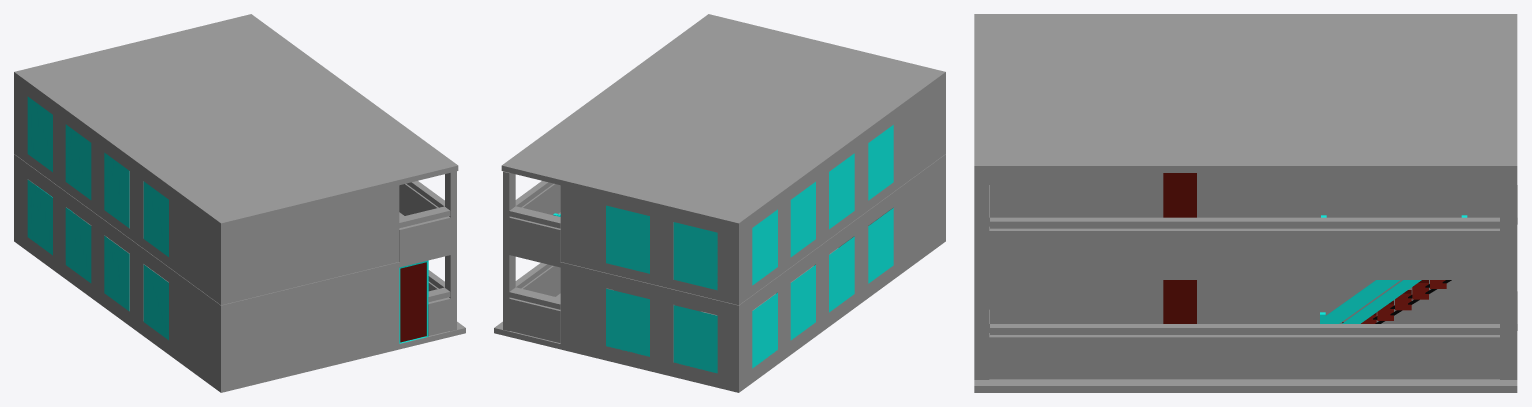
The model's file is PisoDuplex.obj.
3 views of the same model, side by side, from view 1: azimuth 30°, elevation 25°; view 2: azimuth 150°, elevation 25°; view 3: azimuth 270°, elevation 25° (orthographic). The views are drawn at different scales.
Visible parts, largest first — view 1: Plane.004_Plane.003_Plane.004_Plane.009, Plane.004_Plane.001_Plane.004_Plane.002, Plane.004_Plane.007, Plane.004_Plane.012_Plane.004_Plane.022, Plane.004_Plane.008_Plane.004_Plane.012, Plane.004_Plane.002_Plane.004_Plane.005, Plane.004_Plane.000_Plane.004_Plane.001, Cube.001_Cube.002, Plane.004_Plane.006_Plane.004_Plane.011, Plane.004_Plane.005_Plane.004_Plane.013, Cube_Cube.001; view 2: Plane.004_Plane.003_Plane.004_Plane.009, Plane.004_Plane.012_Plane.004_Plane.022, Plane.004_Plane.001_Plane.004_Plane.002, Plane.004_Plane.007, Plane.004_Plane.008_Plane.004_Plane.012, Plane.004_Plane.005_Plane.004_Plane.013, Plane.004_Plane.002_Plane.004_Plane.005, Plane.004_Plane.000_Plane.004_Plane.001, Plane.004_Plane.006_Plane.004_Plane.011; view 3: Plane.004_Plane.003_Plane.004_Plane.009, Plane.004_Plane.008_Plane.004_Plane.012, Plane.004_Plane.005_Plane.004_Plane.013, Plane.004_Plane.001_Plane.004_Plane.002, Plane.004_Plane.007, Plane.004_Plane.002_Plane.004_Plane.005, Plane.004_Plane.006_Plane.004_Plane.011, Plane.004_Plane.000_Plane.004_Plane.001, Plane.004_Plane.009_Plane.004_Plane.014, Plane, Plane.004_Plane.004_Plane.004_Plane.006.
Boxes of the visible parts, x1,y1,x2,y2 form: Plane.004_Plane.003_Plane.004_Plane.009: (14, 14, 458, 228); Plane.004_Plane.001_Plane.004_Plane.002: (14, 77, 399, 305); Plane.004_Plane.007: (14, 160, 399, 387); Plane.004_Plane.012_Plane.004_Plane.022: (27, 96, 168, 340); Plane.004_Plane.008_Plane.004_Plane.012: (399, 181, 450, 261); Plane.004_Plane.002_Plane.004_Plane.005: (14, 220, 465, 392); Plane.004_Plane.000_Plane.004_Plane.001: (14, 154, 456, 310); Cube.001_Cube.002: (400, 262, 426, 342); Plane.004_Plane.006_Plane.004_Plane.011: (445, 171, 456, 331); Plane.004_Plane.005_Plane.004_Plane.013: (428, 270, 450, 335); Cube_Cube.001: (399, 260, 428, 343); Plane.004_Plane.003_Plane.004_Plane.009: (501, 14, 945, 228); Plane.004_Plane.012_Plane.004_Plane.022: (606, 125, 893, 373); Plane.004_Plane.001_Plane.004_Plane.002: (560, 77, 945, 305); Plane.004_Plane.007: (560, 160, 945, 387); Plane.004_Plane.008_Plane.004_Plane.012: (509, 181, 560, 261); Plane.004_Plane.005_Plane.004_Plane.013: (509, 263, 560, 342); Plane.004_Plane.002_Plane.004_Plane.005: (494, 236, 945, 392); Plane.004_Plane.000_Plane.004_Plane.001: (503, 154, 945, 310); Plane.004_Plane.006_Plane.004_Plane.011: (503, 171, 515, 331); Plane.004_Plane.003_Plane.004_Plane.009: (974, 14, 1517, 172); Plane.004_Plane.008_Plane.004_Plane.012: (989, 185, 1517, 272); Plane.004_Plane.005_Plane.004_Plane.013: (989, 291, 1517, 379); Plane.004_Plane.001_Plane.004_Plane.002: (989, 173, 1499, 226); Plane.004_Plane.007: (989, 280, 1499, 332); Plane.004_Plane.002_Plane.004_Plane.005: (974, 379, 1517, 392); Plane.004_Plane.006_Plane.004_Plane.011: (974, 173, 1517, 379); Plane.004_Plane.000_Plane.004_Plane.001: (974, 273, 1517, 279); Plane.004_Plane.009_Plane.004_Plane.014: (1163, 173, 1196, 323); Plane: (1320, 215, 1467, 323); Plane.004_Plane.004_Plane.004_Plane.006: (1342, 280, 1446, 323).
Bounding box in the file's own units: 6.66 × 4.41 × 9.76.
